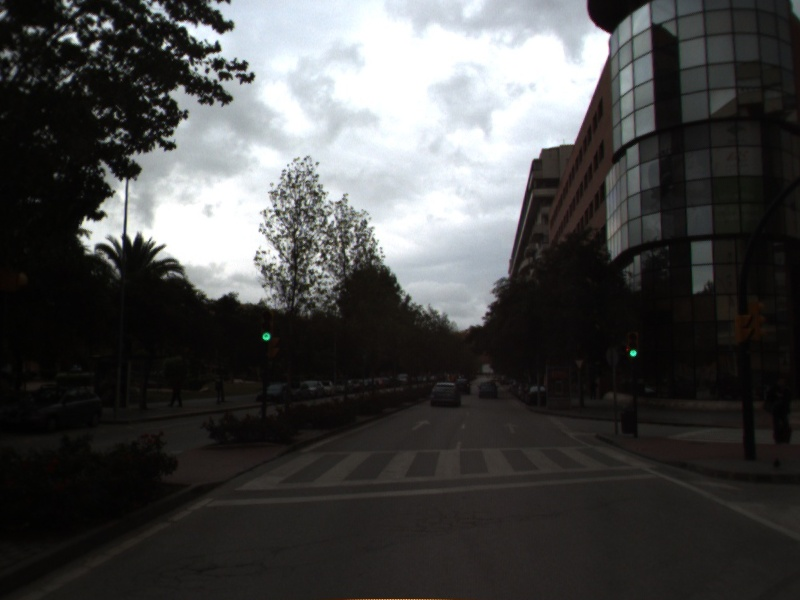STRAIGHT: (410, 418, 433, 432), (501, 421, 521, 435)
